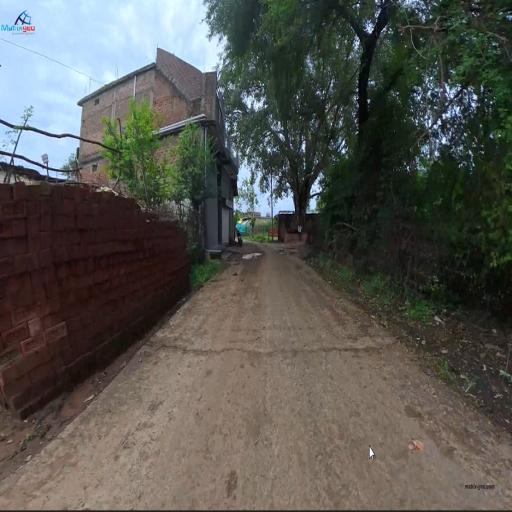longitudinal_crack: (156, 336, 399, 373)
